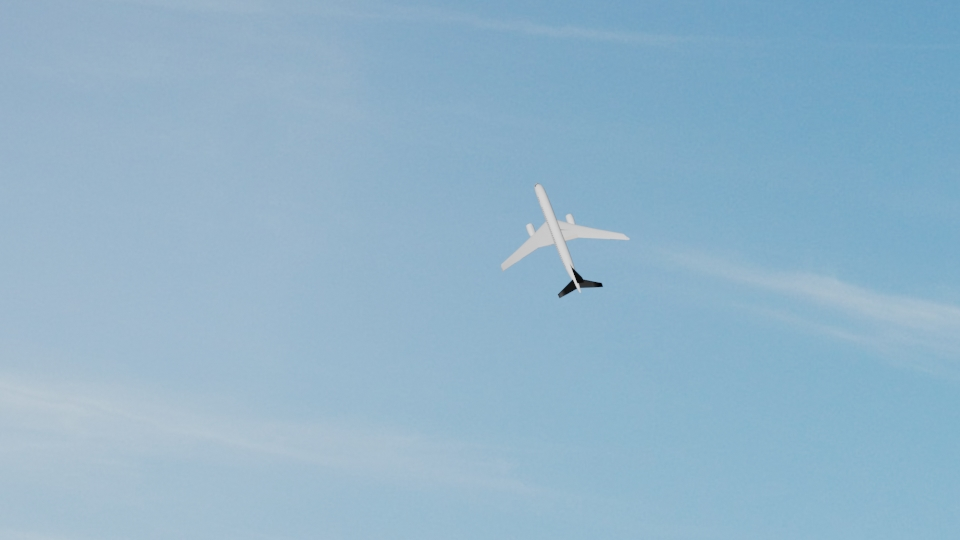plane: (502, 182, 629, 299)
